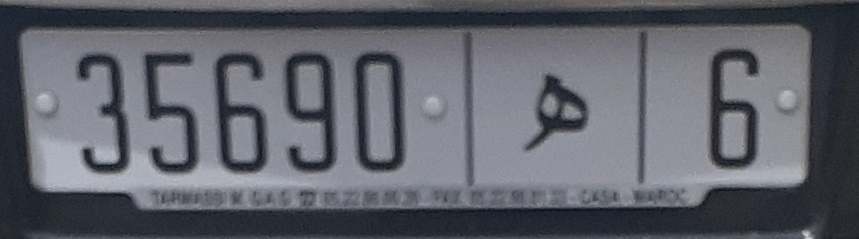0: (347, 43, 413, 175)
3: (68, 42, 130, 182)
5: (139, 38, 201, 177)
6: (698, 40, 770, 174), (209, 41, 272, 177)
9: (277, 41, 343, 177)
h: (509, 68, 607, 165)
